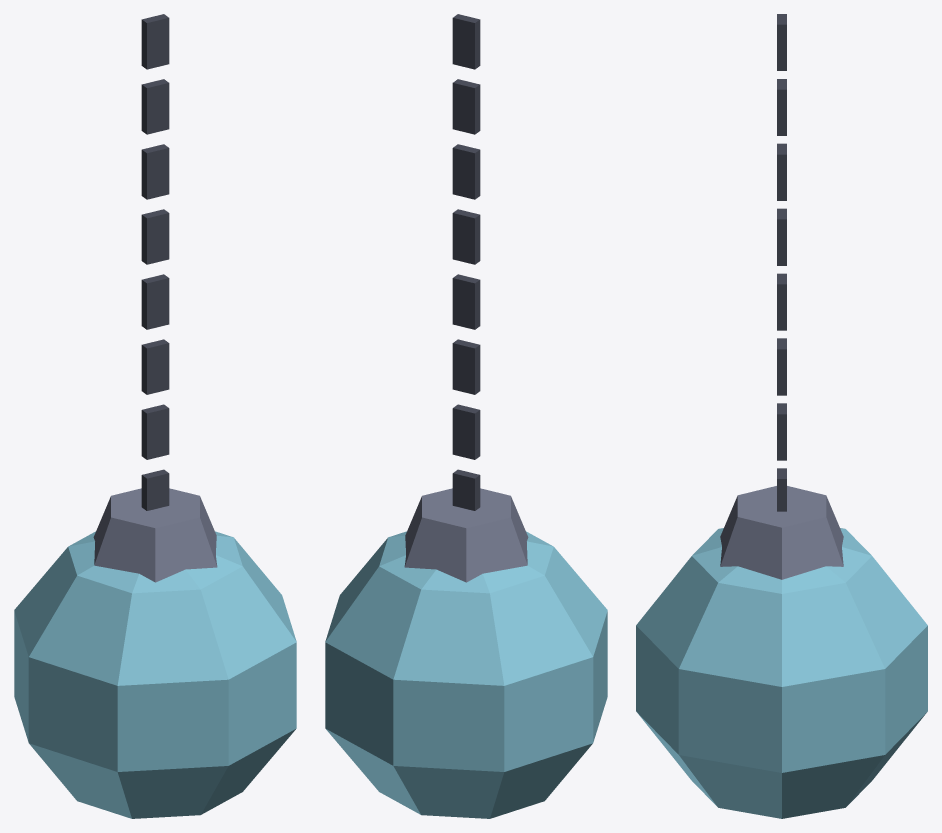
The model's file is glow_orb_chain.glb.
3 views of the same model, side by side, from view 1: azimuth 30°, elevation 25°; view 2: azimuth 150°, elevation 25°; view 3: azimuth 270°, elevation 25° (orthographic).
Visible parts, largest first — view 1: glow_orb_chain; view 2: glow_orb_chain; view 3: glow_orb_chain.
Boxes of the visible parts, left/top/right/bottom form: glow_orb_chain: left=14, top=14, right=296, bottom=818; glow_orb_chain: left=325, top=14, right=607, bottom=818; glow_orb_chain: left=636, top=14, right=927, bottom=818.
Size of the model in its own units: 0.5706 by 1.7 by 0.5706.
